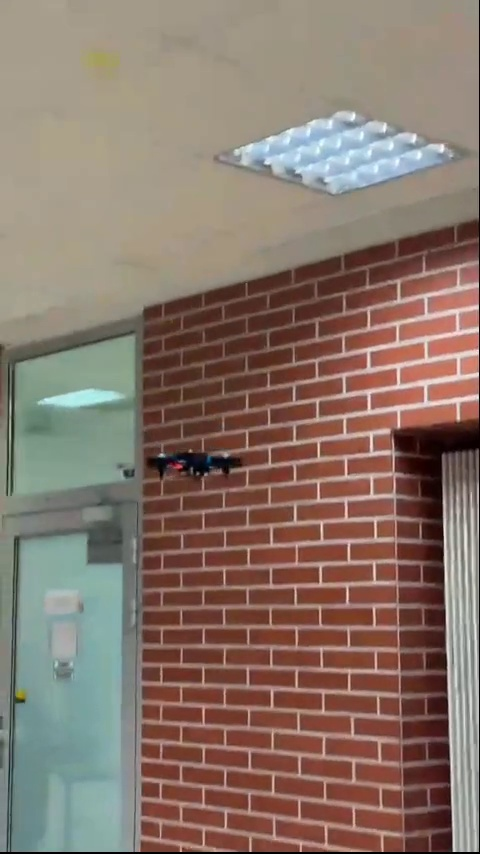drone: (151, 447, 245, 484)
